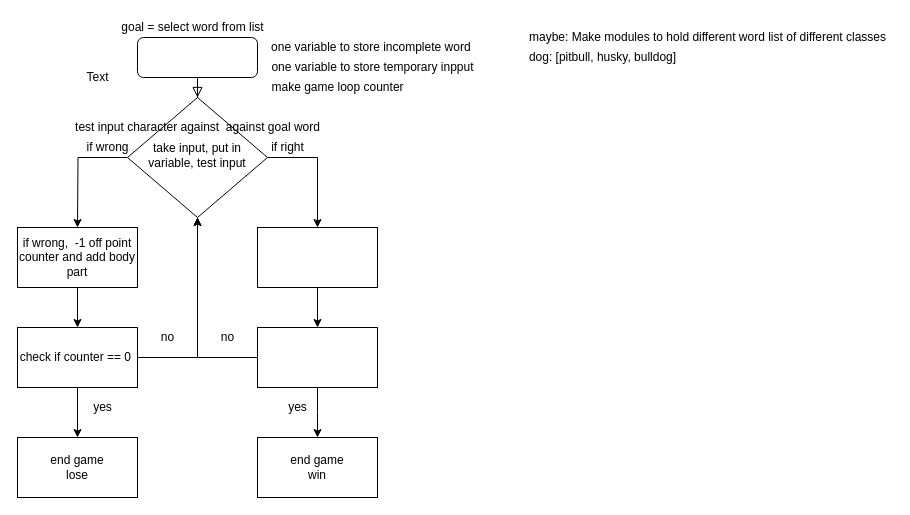
This 910x515 diagram has some shape labels left out. Each missing label, with the box of its shape:
check if string/array is complete: (256, 326, 378, 388)
if right, give congrats and place characters: (256, 226, 378, 288)
promt user to guess letters to the word: (136, 36, 258, 78)
